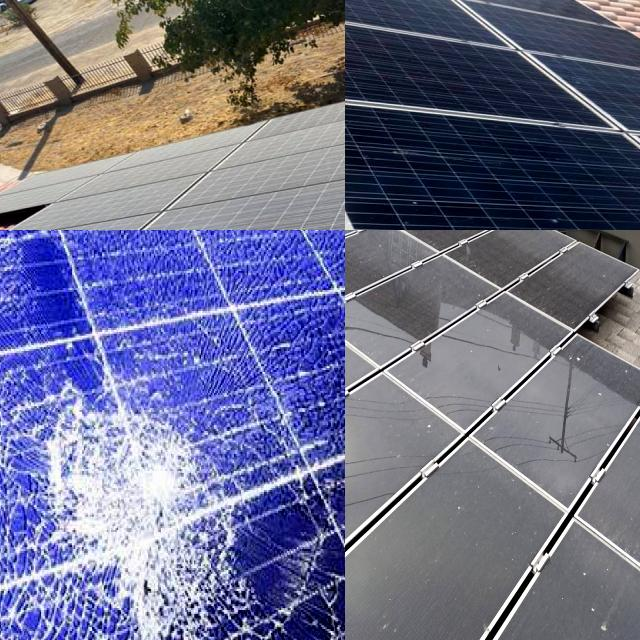dust: (357, 133, 640, 230), (345, 395, 435, 544), (472, 440, 552, 564), (553, 48, 640, 134), (357, 230, 433, 314), (345, 579, 447, 640), (566, 562, 640, 640), (345, 466, 379, 599)
hotspot: (16, 383, 259, 640), (0, 342, 23, 476)
